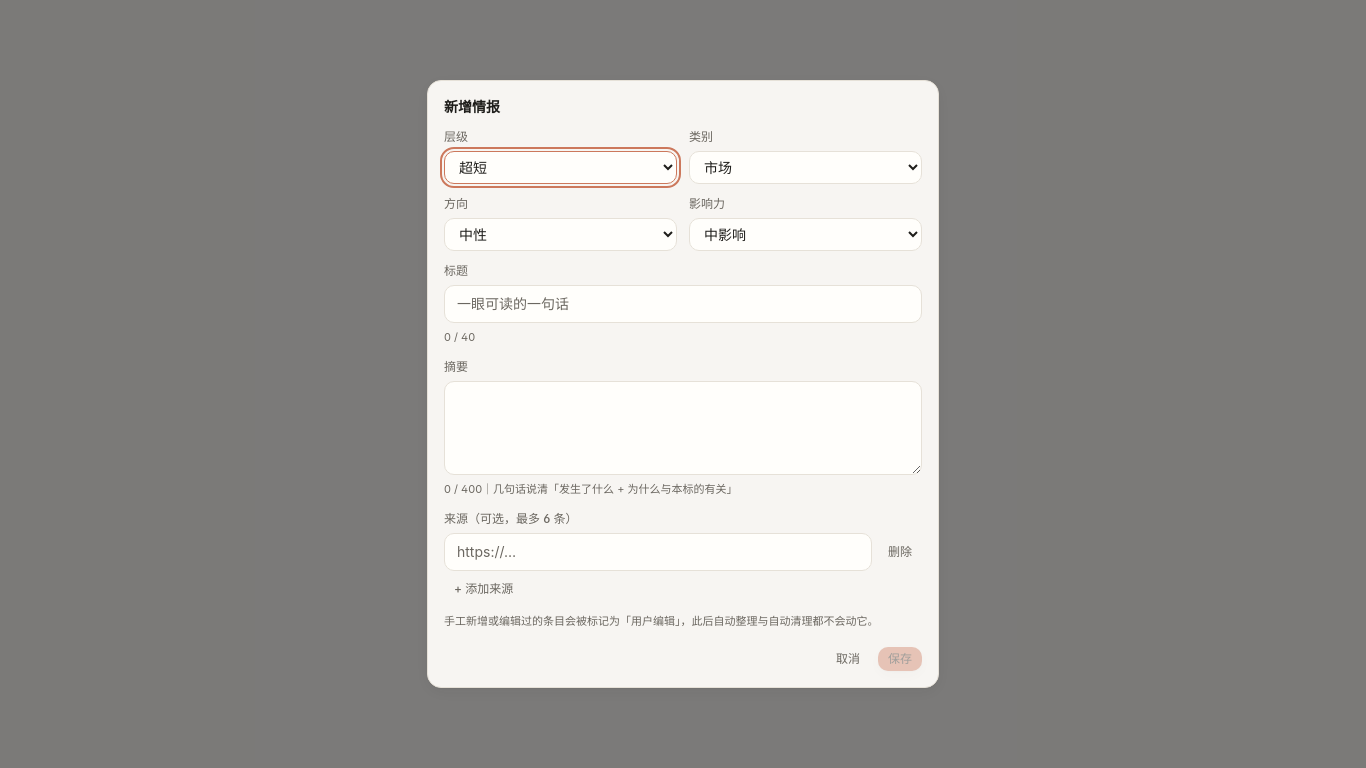
Test: IntelEditor › 字数计数在输入时就说清楚上限
In the field labelled "标题": x=683, y=304 x1=444 y1=285 x2=922 y2=323, type "一二三"
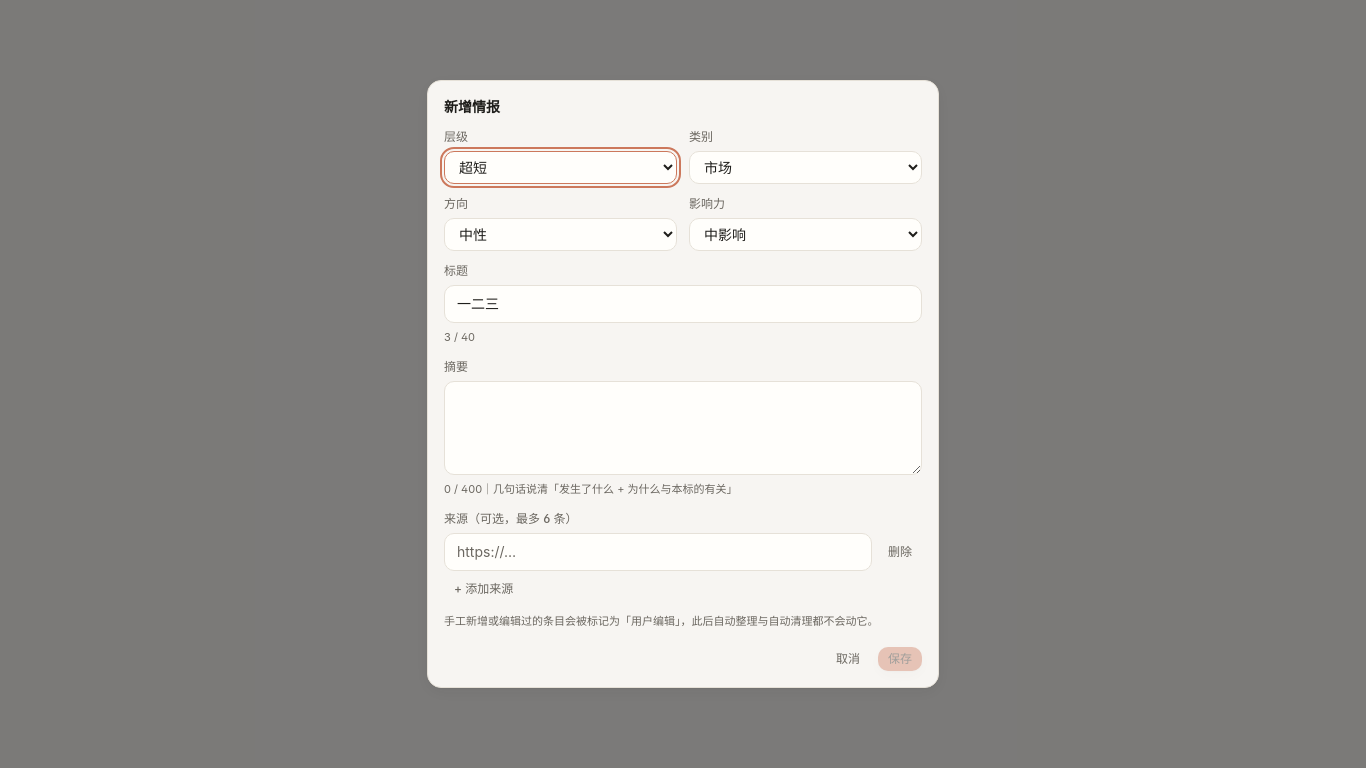
Expected: the text "3 / 40" is shown, x1=444 y1=330 x2=475 y2=344
